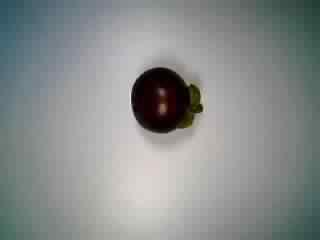mangosteen: (127, 60, 204, 135)
